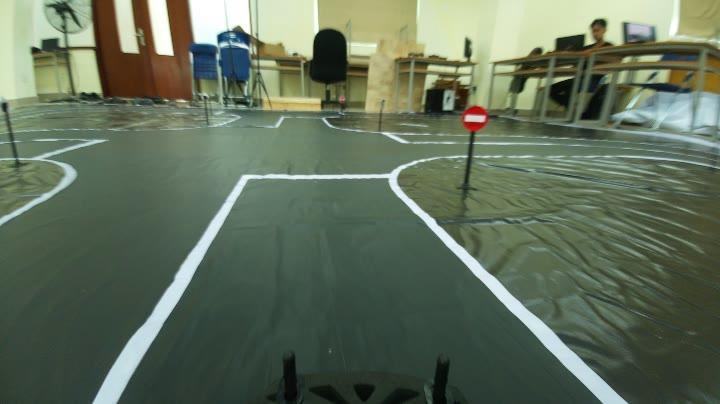no_entry: (459, 102, 493, 134)
